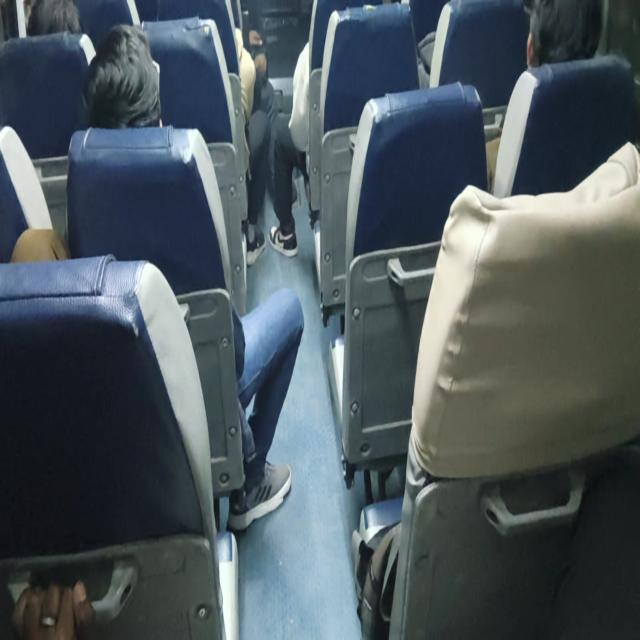person: (96, 34, 196, 150), (515, 0, 627, 69), (20, 5, 79, 47)
